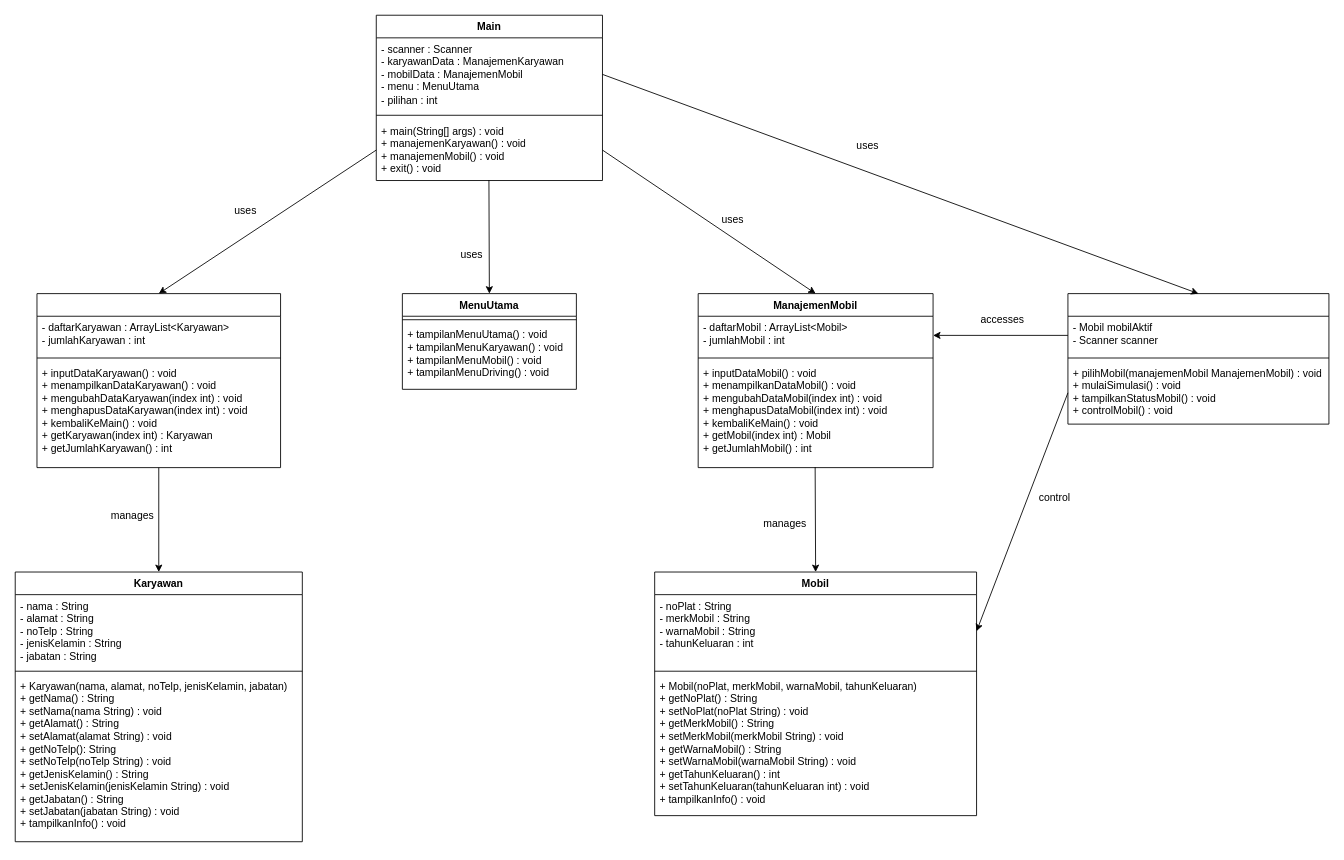
Image size: 1344x860. Some labels were removed from this diagram. The shapes that lost their labels are listed below. From the top down, each one's box as (x1, y1, x2, y2) in pixels, then its label:
(1067, 293, 1329, 424): SimulasiDriving
(36, 293, 281, 468): ManajemenKaryawan
